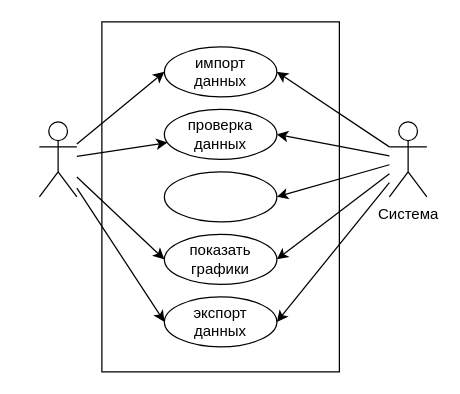
This 460x394 diagram has some shape labels left out. The centre of each missing label's shape, as x and y in pixels:
"расчет профилей" belongs at pixel 220 196.
"Сотрудник" belongs at pixel 57 159.
